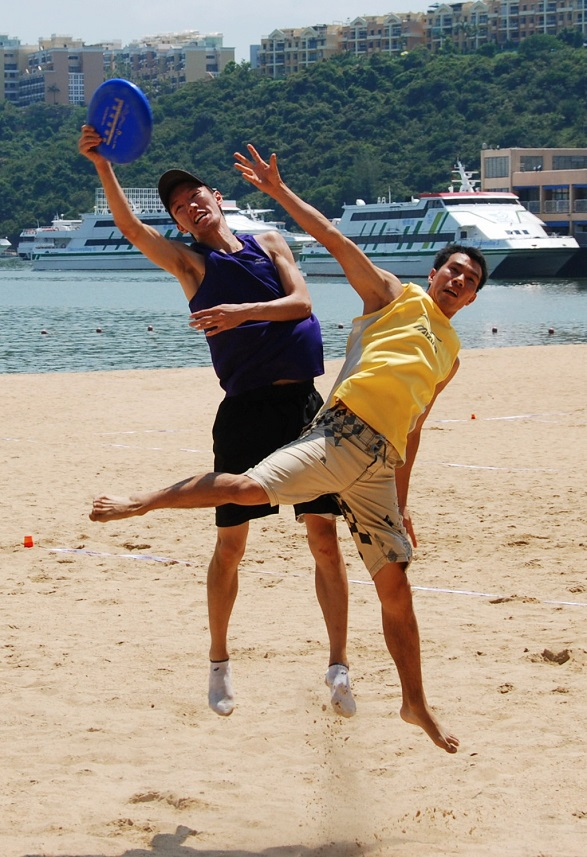disc: (86, 80, 156, 160)
